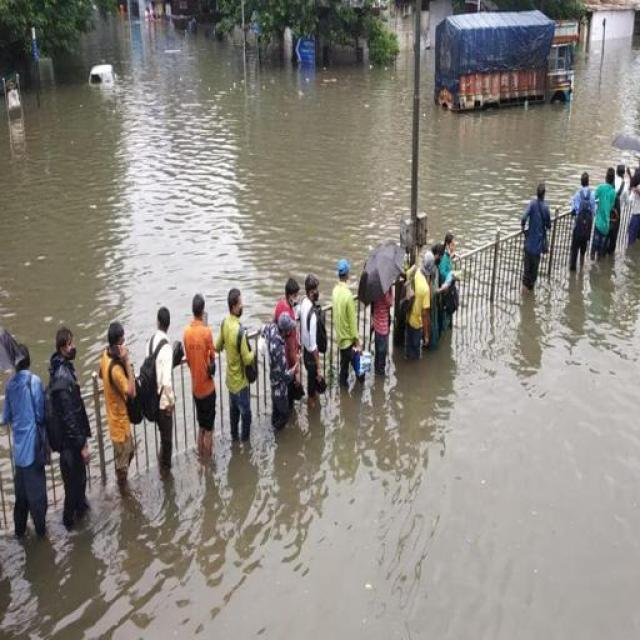puddle: (315, 416, 634, 634), (37, 102, 393, 234), (2, 554, 407, 629), (204, 463, 375, 606), (5, 210, 304, 290), (475, 293, 629, 445), (444, 119, 515, 235)
